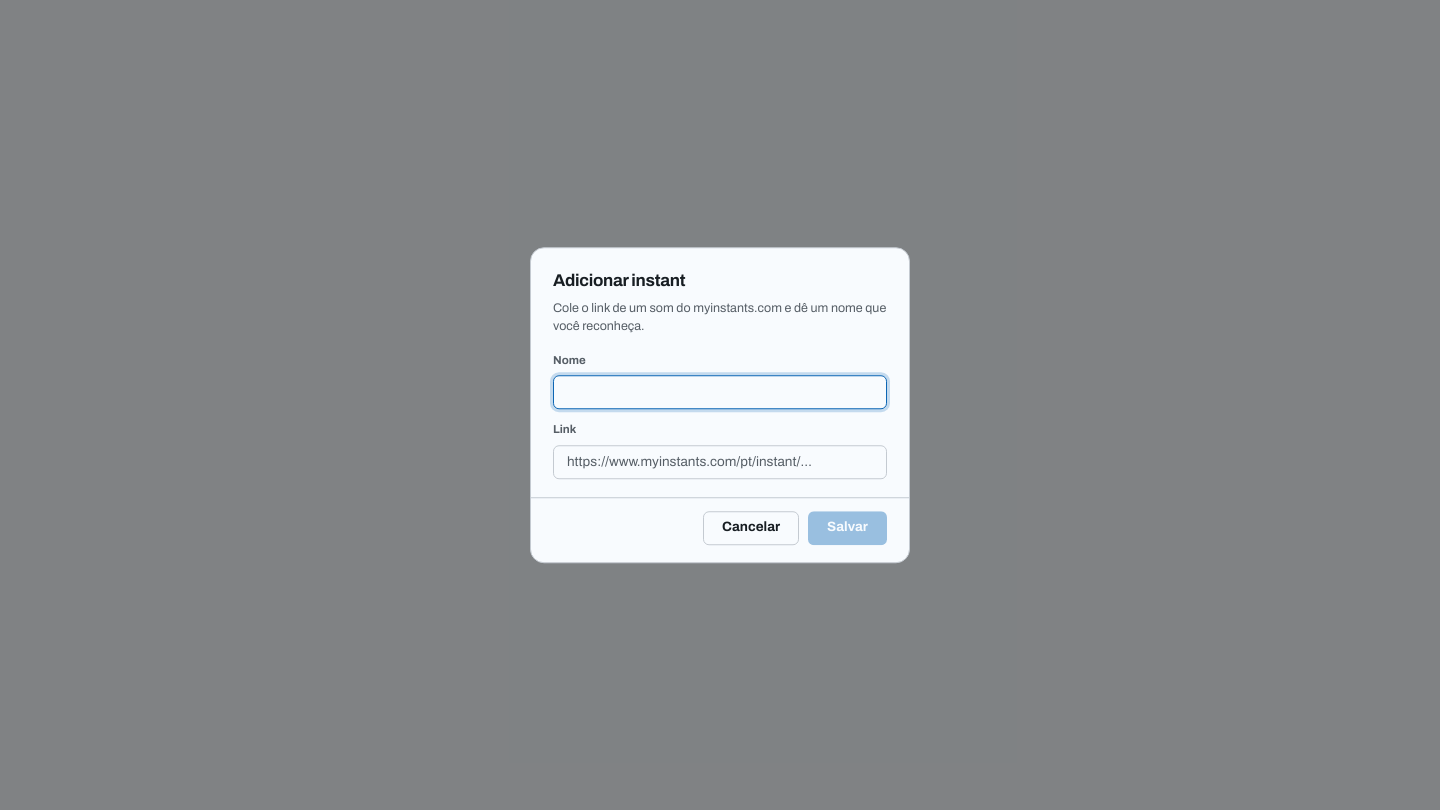
Test: SaveForm › shows validation errors only after each field is touched
expect the text "Mínimo 3 caracteres" is not shown: met
In the field labelled "Nome": (720, 392) [553,376,887,410], type "ab"
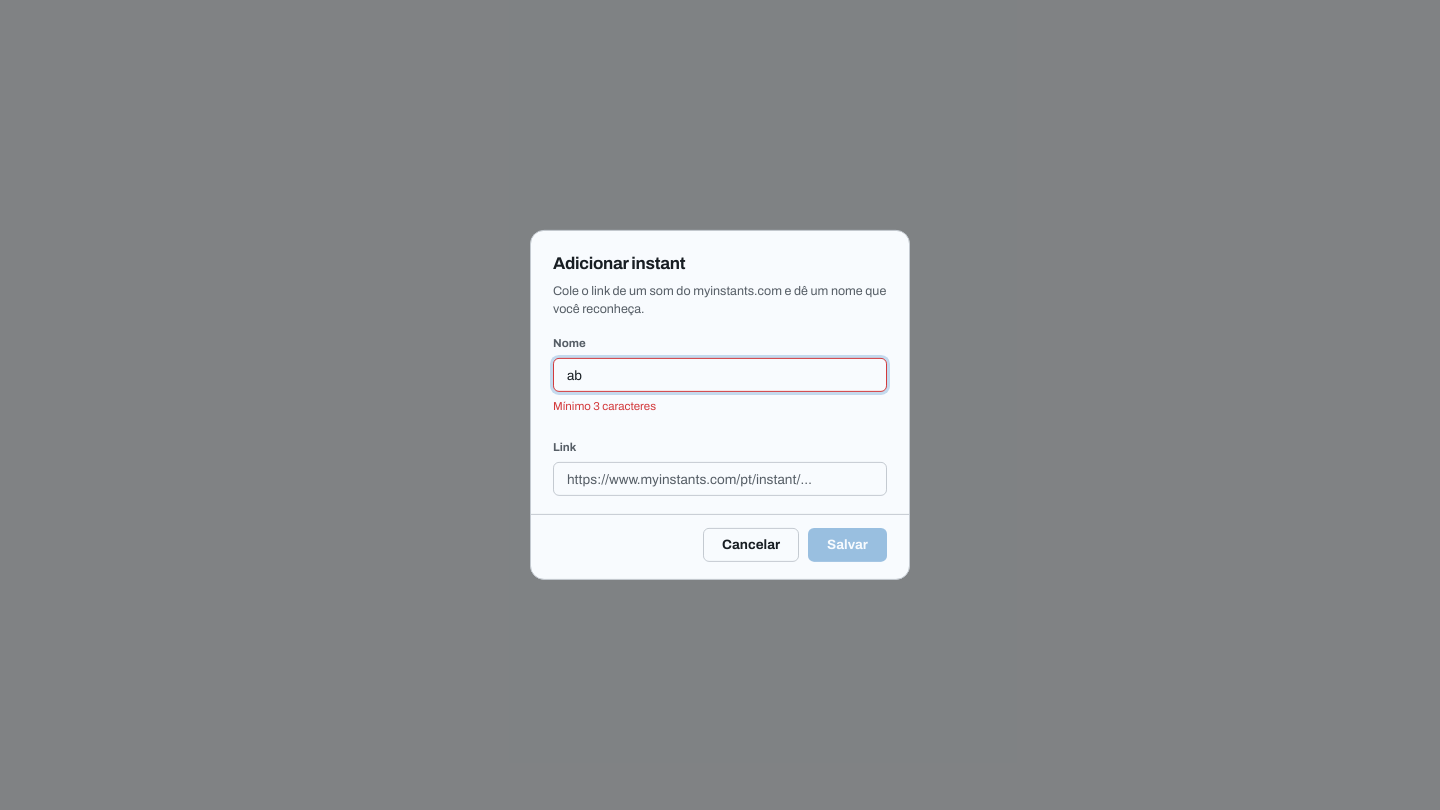
expect the text "Mínimo 3 caracteres" is shown: met, box [553,400,656,412]
In the field labelled "Nome": (720, 375) [553,358,887,392], type "c"
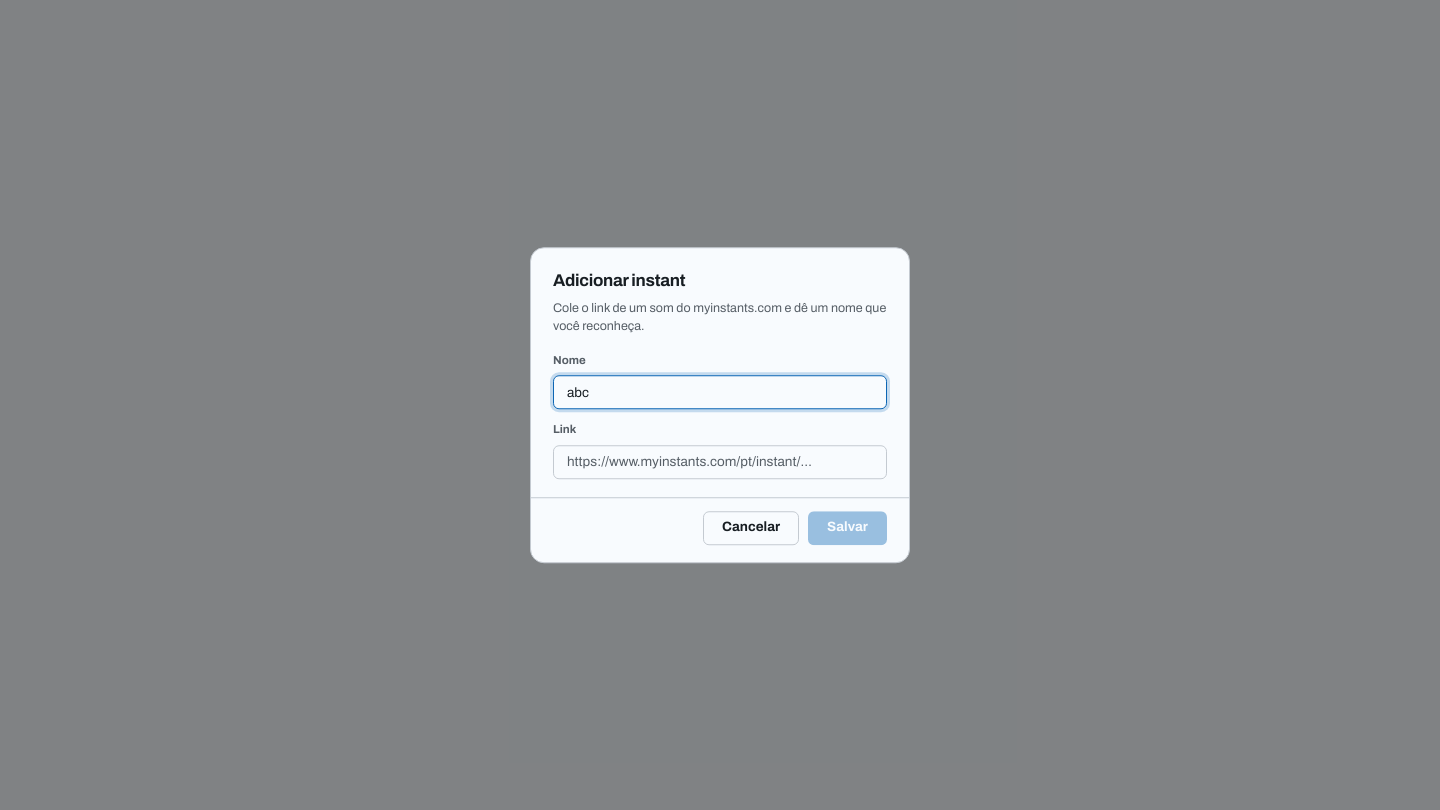
expect the text "Mínimo 3 caracteres" is gone: met
